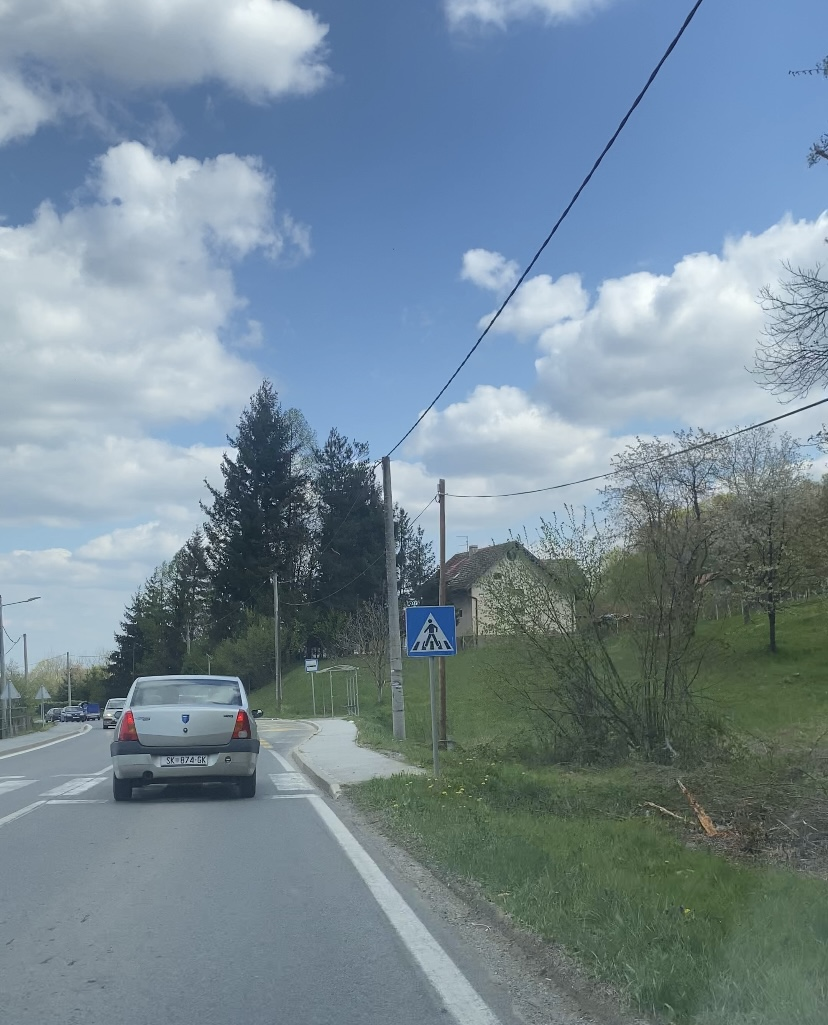Pješački prijelaz: (406, 605, 457, 657)
